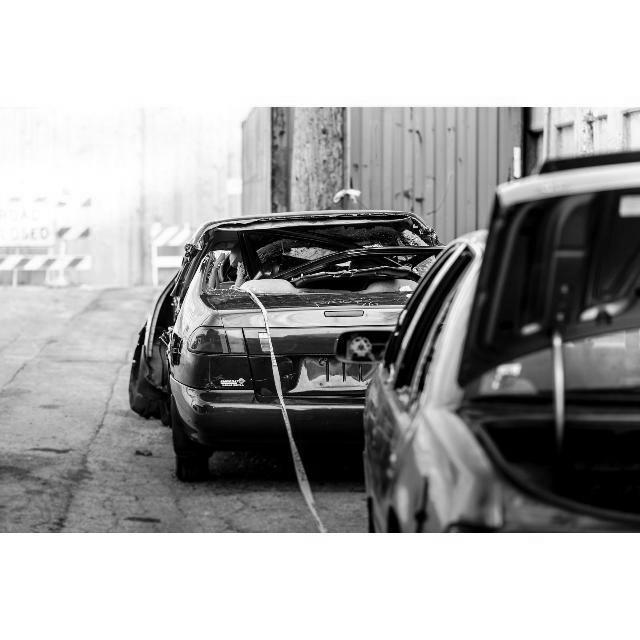Rear-windscreen-Damage: (205, 221, 411, 301)
boot-dent: (221, 329, 393, 407)
